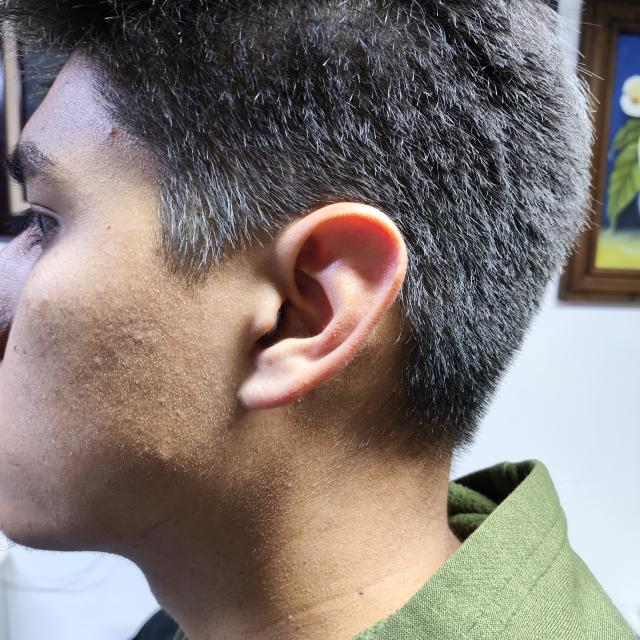ear: (238, 202, 408, 410)
